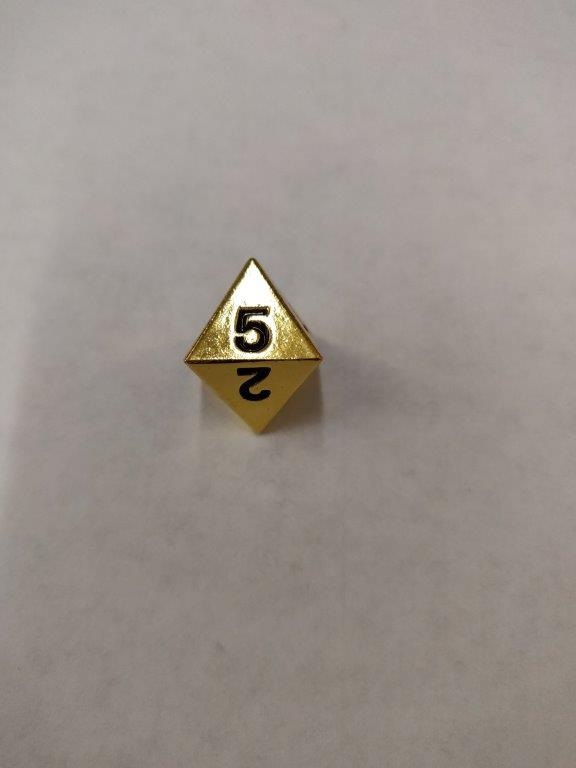d8-5: (180, 257, 324, 437)
